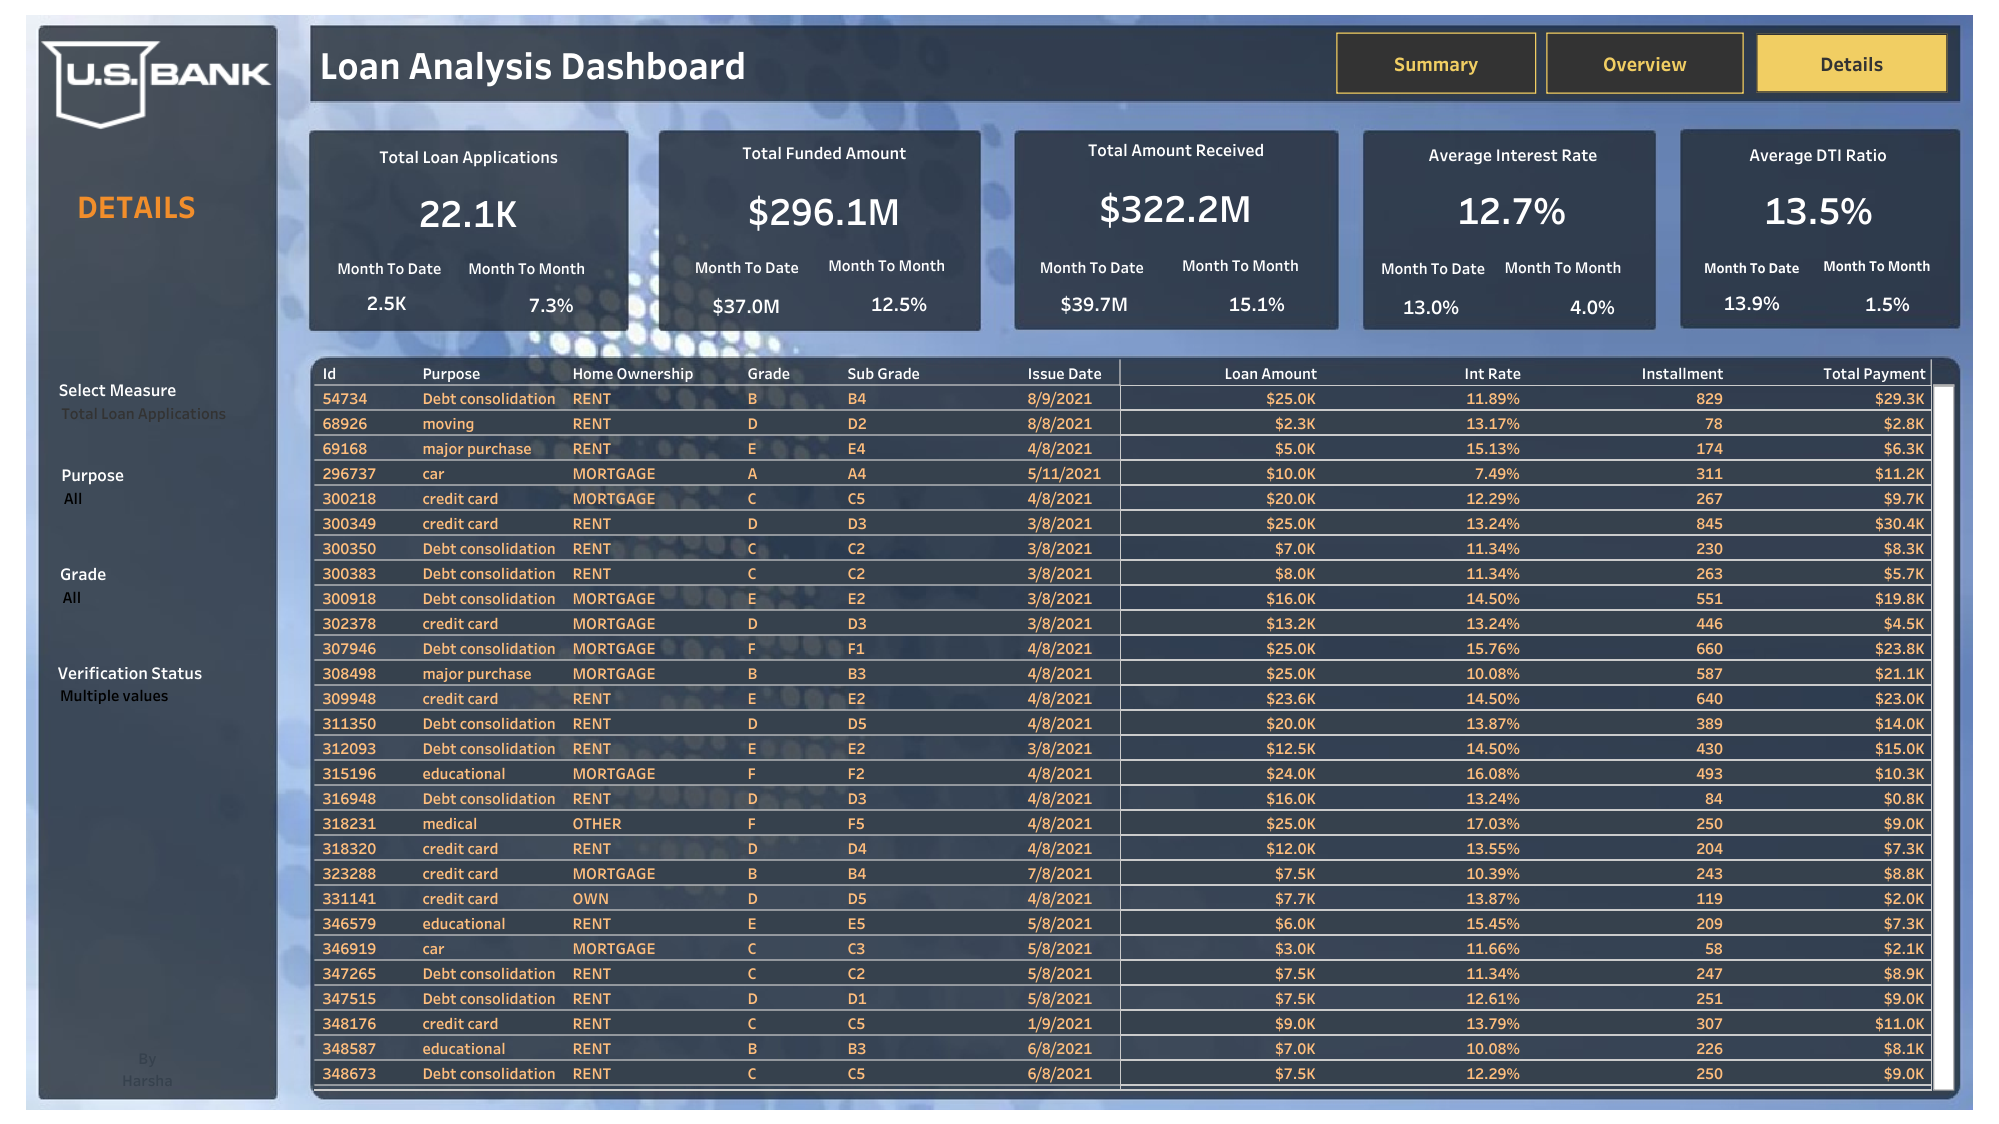

Layout of this report page (visuals, bound fields, positions):
{"tool":"tableau","page":{"name":"Details","canvas":[1600,900],"ordinal":0},"visuals":[{"type":"image","param":"Image/Background 3.JPG","box":[8,8,1584,884]},{"type":"image","param":"Image/image (2).png","box":[32,23,186,89]},{"type":"text","box":[253,26,561,50]},{"type":"dashboard-object","box":[1069,26,160,49]},{"type":"dashboard-object","box":[1237,26,158,49]},{"type":"dashboard-object","box":[1405,27,153,47]},{"type":"worksheet","title":"Total Amount Received","mark":"Automatic","box":[814,104,254,89]},{"type":"worksheet","title":"Total Funded Amount","mark":"Automatic","box":[531,106,257,91]},{"type":"worksheet","title":"Average Interest Rate","mark":"Automatic","box":[1092,108,237,85]},{"type":"worksheet","title":"Average DTI Ratio","mark":"Automatic","box":[1346,108,217,84]},{"type":"worksheet","title":"Total Loan Applications","mark":"Automatic","box":[248,109,254,86]},{"type":"text","box":[59,141,144,45]},{"type":"text","box":[660,197,124,30]},{"type":"text","box":[943,197,124,30]},{"type":"text","box":[1456,197,124,30]},{"type":"text","box":[542,198,111,30]},{"type":"text","box":[818,198,111,30]},{"type":"text","box":[1201,198,124,30]},{"type":"text","box":[1346,198,111,30]},{"type":"text","box":[256,199,111,30]},{"type":"text","box":[372,199,124,30]},{"type":"text","box":[1091,199,111,30]},{"type":"worksheet","title":"Month to Date Average DTI Ratio","mark":"Automatic","box":[1360,219,84,46]},{"type":"worksheet","title":"Month on Month Total Funded Amount","mark":"Automatic","box":[665,220,110,46]},{"type":"worksheet","title":"Month on Month Total Amount Received","mark":"Automatic","box":[948,220,116,45]},{"type":"worksheet","title":"Month to Date Total Loan Applications","mark":"Automatic","box":[250,221,120,42]},{"type":"worksheet","title":"Month to Date Total Amount Received","mark":"Automatic","box":[814,221,123,44]},{"type":"worksheet","title":"Month on Month Average Interest Rate","mark":"Automatic","box":[1220,221,108,48]},{"type":"worksheet","title":"Month on Month Average DTI Ratio","mark":"Automatic","box":[1468,221,85,44]},{"type":"worksheet","title":"Month on Month Loan Applications","mark":"Automatic","box":[384,222,114,42]},{"type":"worksheet","title":"Month to Date Average Interest Rate","mark":"Automatic","box":[1098,222,93,46]},{"type":"worksheet","title":"Month to Date Total Funded Amount","mark":"Automatic","box":[536,223,124,42]},{"type":"worksheet","title":"Details tab","mark":"Automatic","rows":["id","purpose","home_ownership","grade","sub_grade","issue_date"],"box":[252,288,1312,585]},{"type":"parameter","param":"[Parameters].[Parameter 1]","box":[47,301,160,48]},{"type":"filter","title":"Average DTI Ratio","param":"[federated.1i9lje30umfta41eqbz8p0mizr2h].[none:purpose:nk]","box":[49,369,160,61]},{"type":"filter","title":"Average DTI Ratio","param":"[federated.1i9lje30umfta41eqbz8p0mizr2h].[none:grade:nk]","box":[48,448,160,59]},{"type":"filter","title":"Average DTI Ratio","param":"[federated.1i9lje30umfta41eqbz8p0mizr2h].[none:verification_status:nk]","box":[46,527,160,73]},{"type":"text","box":[68,834,100,42]}]}

Visuals, with their boxes in screenshot pixels (x1, y1, x2, y2), scaled from the page's 1600x900 canvas onto the 1999x1124 screenshot:
image: x1=10 y1=10 x2=1989 y2=1114
image: x1=40 y1=29 x2=272 y2=140
text: x1=316 y1=32 x2=1017 y2=95
dashboard-object: x1=1336 y1=32 x2=1535 y2=94
dashboard-object: x1=1545 y1=32 x2=1743 y2=94
dashboard-object: x1=1755 y1=34 x2=1947 y2=92
"Total Amount Received" worksheet: x1=1017 y1=130 x2=1334 y2=241
"Total Funded Amount" worksheet: x1=663 y1=132 x2=985 y2=246
"Average Interest Rate" worksheet: x1=1364 y1=135 x2=1660 y2=241
"Average DTI Ratio" worksheet: x1=1682 y1=135 x2=1953 y2=240
"Total Loan Applications" worksheet: x1=310 y1=136 x2=627 y2=244
text: x1=74 y1=176 x2=254 y2=232
text: x1=825 y1=246 x2=980 y2=283
text: x1=1178 y1=246 x2=1333 y2=283
text: x1=1819 y1=246 x2=1974 y2=283
text: x1=677 y1=247 x2=816 y2=285
text: x1=1022 y1=247 x2=1161 y2=285
text: x1=1500 y1=247 x2=1655 y2=285
text: x1=1682 y1=247 x2=1820 y2=285
text: x1=320 y1=249 x2=459 y2=286
text: x1=465 y1=249 x2=620 y2=286
text: x1=1363 y1=249 x2=1502 y2=286
"Month to Date Average DTI Ratio" worksheet: x1=1699 y1=274 x2=1804 y2=331
"Month on Month Total Funded Amount" worksheet: x1=831 y1=275 x2=968 y2=332
"Month on Month Total Amount Received" worksheet: x1=1184 y1=275 x2=1329 y2=331
"Month to Date Total Loan Applications" worksheet: x1=312 y1=276 x2=462 y2=328
"Month to Date Total Amount Received" worksheet: x1=1017 y1=276 x2=1171 y2=331
"Month on Month Average Interest Rate" worksheet: x1=1524 y1=276 x2=1659 y2=336
"Month on Month Average DTI Ratio" worksheet: x1=1834 y1=276 x2=1940 y2=331
"Month on Month Loan Applications" worksheet: x1=480 y1=277 x2=622 y2=330
"Month to Date Average Interest Rate" worksheet: x1=1372 y1=277 x2=1488 y2=335
"Month to Date Total Funded Amount" worksheet: x1=670 y1=279 x2=825 y2=331
"Details tab" worksheet: x1=315 y1=360 x2=1954 y2=1090
parameter: x1=59 y1=376 x2=259 y2=436
"Average DTI Ratio" filter: x1=61 y1=461 x2=261 y2=537
"Average DTI Ratio" filter: x1=60 y1=560 x2=260 y2=633
"Average DTI Ratio" filter: x1=57 y1=658 x2=257 y2=749
text: x1=85 y1=1042 x2=210 y2=1094
